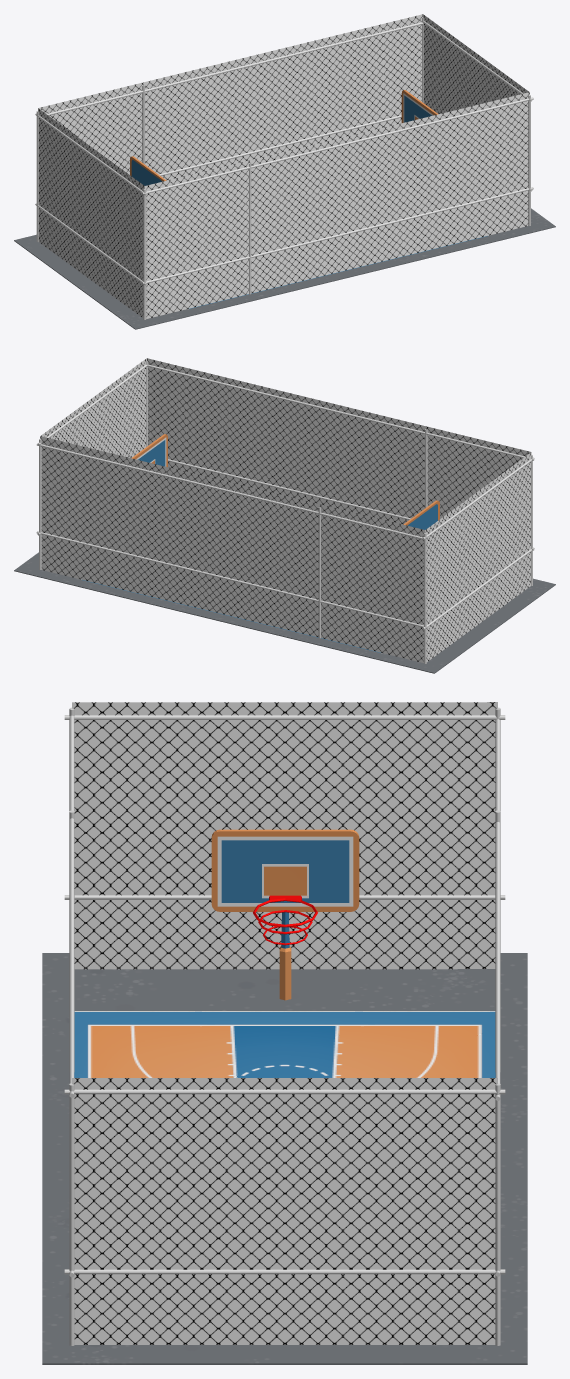
Rendered from BasketScene.glb.
3 views of the same model, one above another, from view 1: azimuth 30°, elevation 25°; view 2: azimuth 150°, elevation 25°; view 3: azimuth 270°, elevation 25° (orthographic). The views are drawn at different scales.
Visible parts, largest first — view 1: TheGarden_Building.002, Cylinder.007, Plane, Cylinder.002, Cylinder.003; view 2: TheGarden_Building.002, Cylinder.007, Plane, Cylinder.002, Cylinder.003; view 3: TheGarden_Building.002, Plane, Cylinder.007, Cylinder.003.
Boxes of the visible parts, left/top/right/bottom form: TheGarden_Building.002: left=38, top=14, right=529, bottom=318; Cylinder.007: left=35, top=17, right=533, bottom=319; Plane: left=14, top=208, right=555, bottom=329; Cylinder.002: left=401, top=90, right=438, bottom=122; Cylinder.003: left=130, top=156, right=166, bottom=185; TheGarden_Building.002: left=40, top=358, right=531, bottom=662; Cylinder.007: left=36, top=361, right=534, bottom=663; Plane: left=14, top=552, right=555, bottom=673; Cylinder.002: left=131, top=434, right=167, bottom=466; Cylinder.003: left=403, top=500, right=439, bottom=529; TheGarden_Building.002: left=72, top=702, right=497, bottom=1344; Plane: left=42, top=953, right=527, bottom=1364; Cylinder.007: left=64, top=707, right=505, bottom=1345; Cylinder.003: left=211, top=829, right=359, bottom=1000.
Bounding box in the file's own units: 32 × 9.78 × 16.
Materials: 5 (5 with a texture image).
